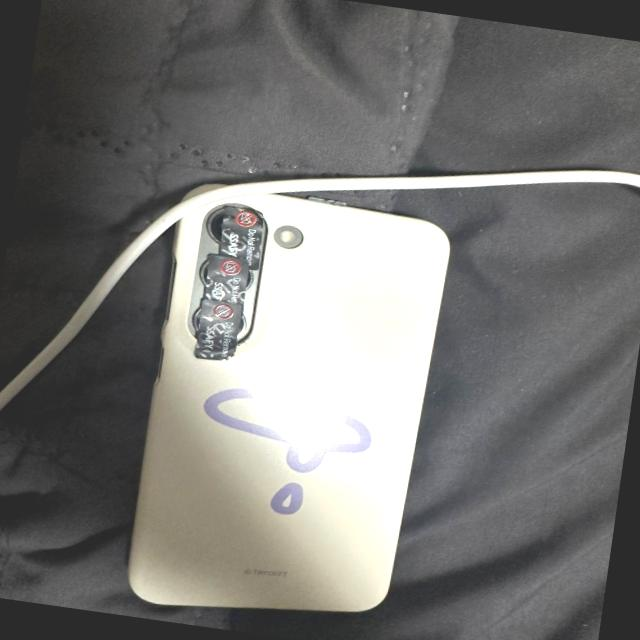phone: (128, 179, 448, 636)
removed_sticker: (192, 298, 242, 364), (217, 206, 267, 268), (202, 255, 250, 309)
